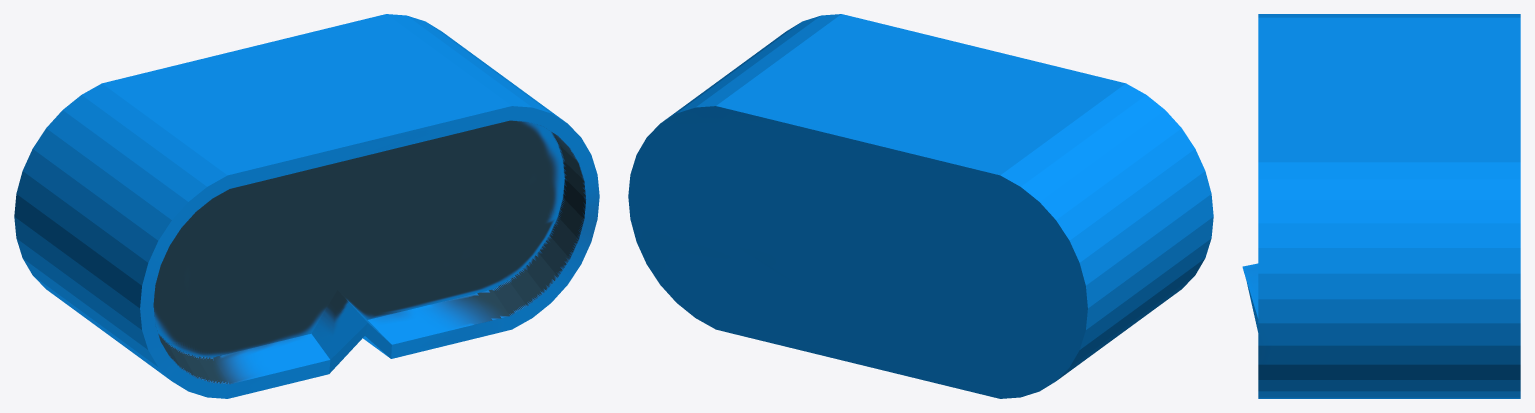
The model's file is casque de plonge.fbx.
3 renders of one model, left to right at view 1: azimuth 30°, elevation 25°; view 2: azimuth 150°, elevation 25°; view 3: azimuth 270°, elevation 25°, orthographic. The views are drawn at different scales.
Parts seen in each view (by area): view 1: Cylinder; view 2: Cylinder; view 3: Cylinder.
Boxes of the visible parts, bbox=[...] form: Cylinder: bbox=[14, 14, 599, 398]; Cylinder: bbox=[628, 14, 1213, 398]; Cylinder: bbox=[1242, 14, 1520, 398].
Size of the model in its own units: 422 by 196 by 212.
Materials: 1 (1 with a texture image).
